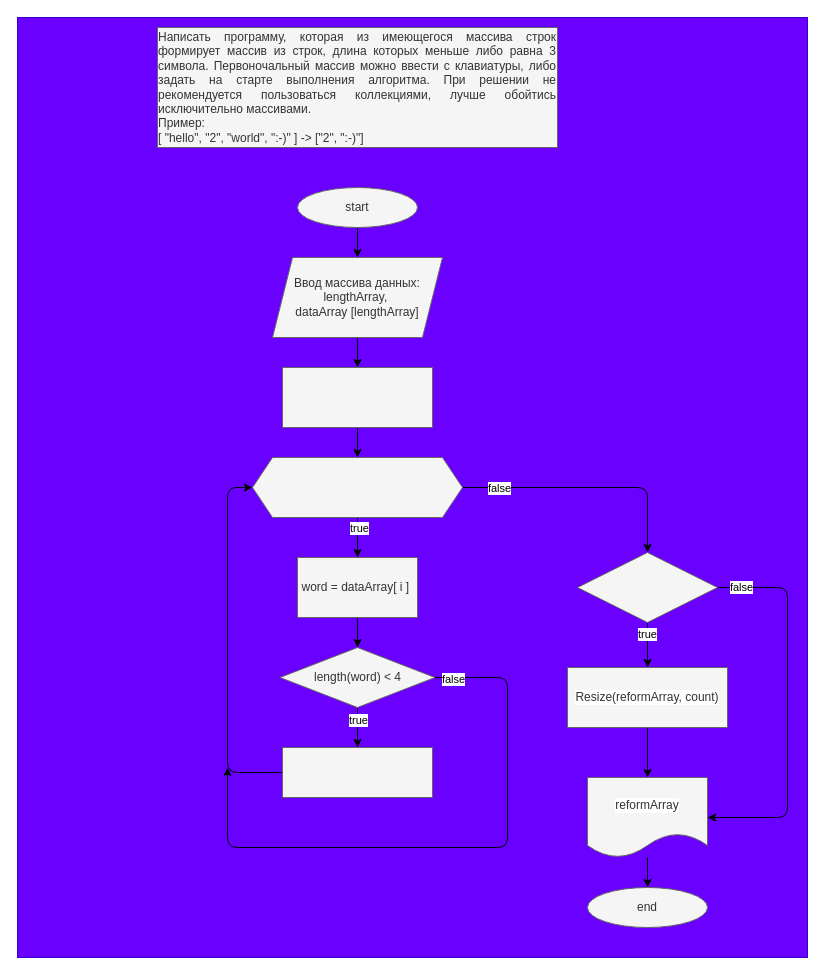
The diagram is 825 pixels wide and 975 high, and some of its shapes have lost their labels. The centre of each missing label's shape, as x and y in pixels:
count < lengthArray: point (647, 587)
count = 0, finalArray [lengthArray], word = " ": point (357, 397)
finalArray [count] = word, count = count + 1: point (357, 772)
i , i = 0, lengthArray-1, 1: point (357, 487)
